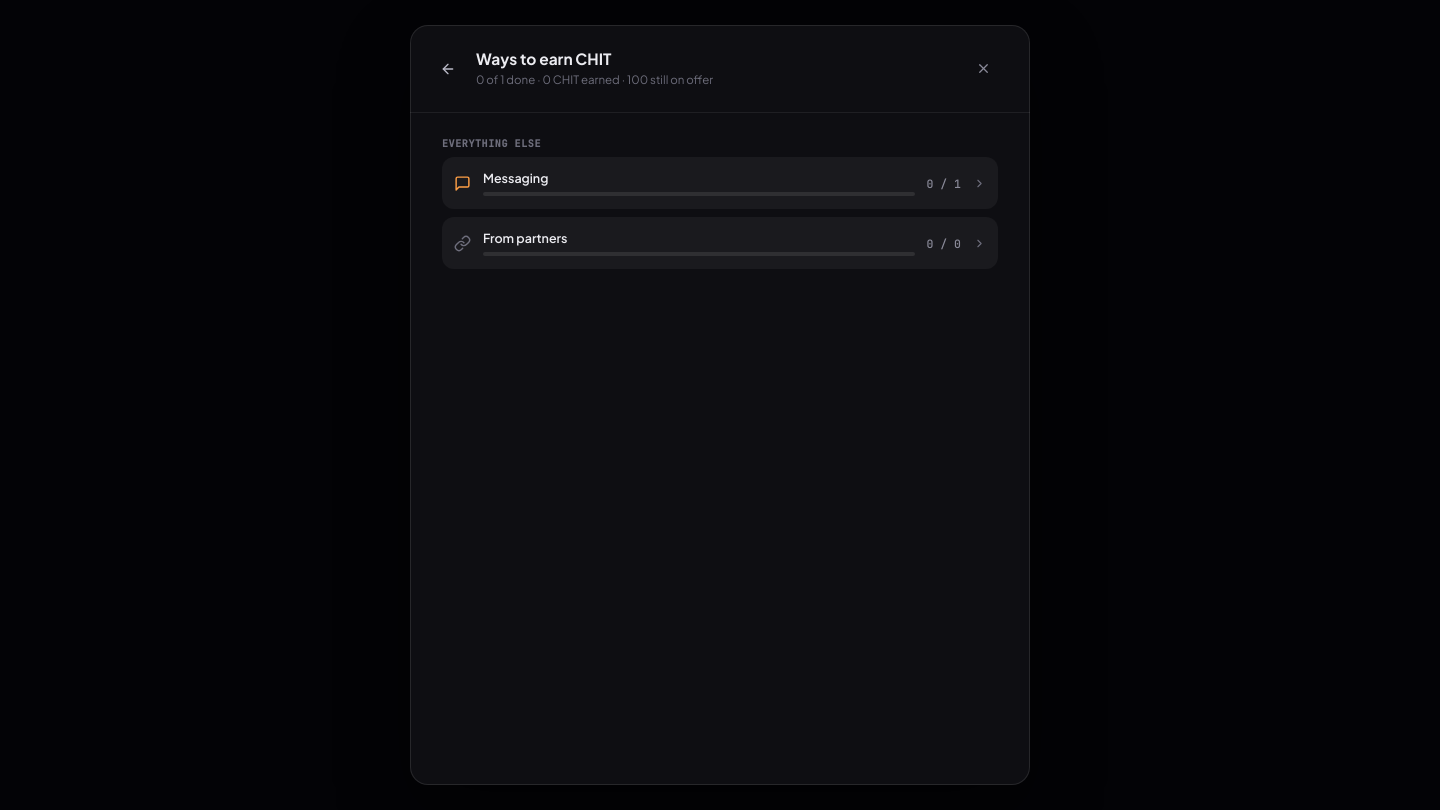
Test: AchievementsDialog groups › group heads report whether they are expanded
Click the button with class "group-head" showing "Messaging 0 / 1" at (516, 178), box [454,170,986,196]
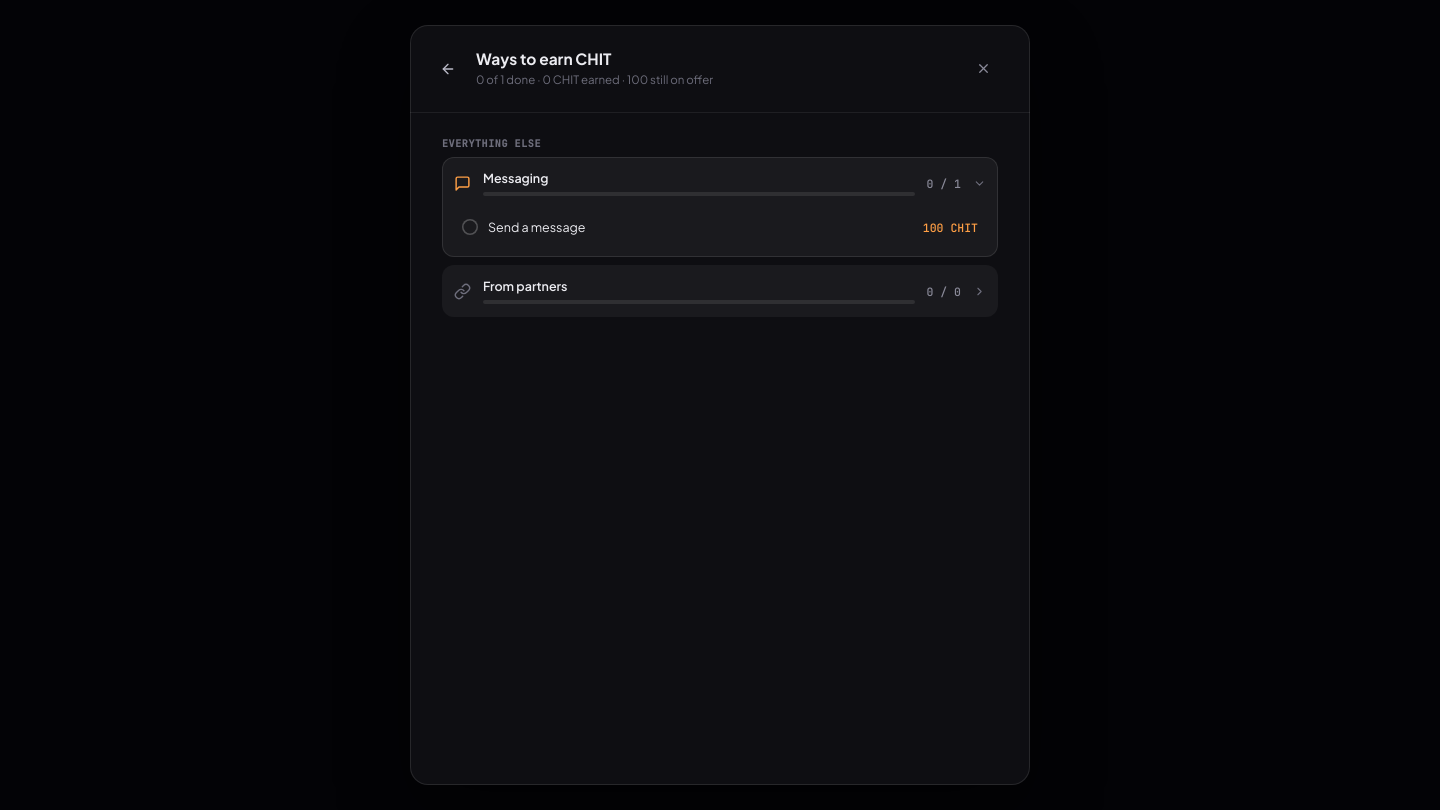
Expected: the button with class "group-head" is expanded, [454,170,986,196]
